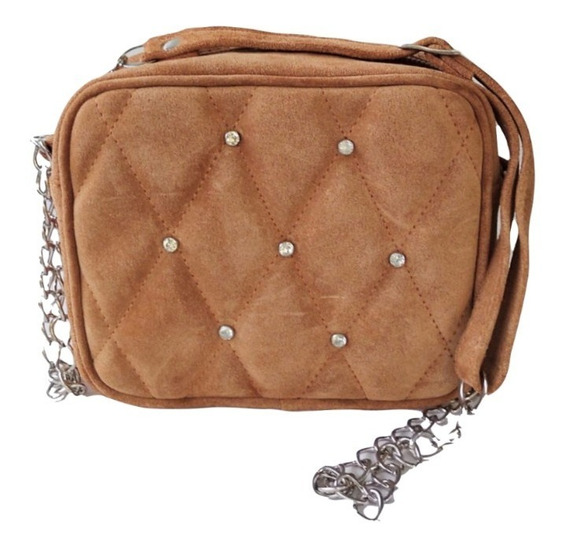cartera: (32, 19, 538, 414)
